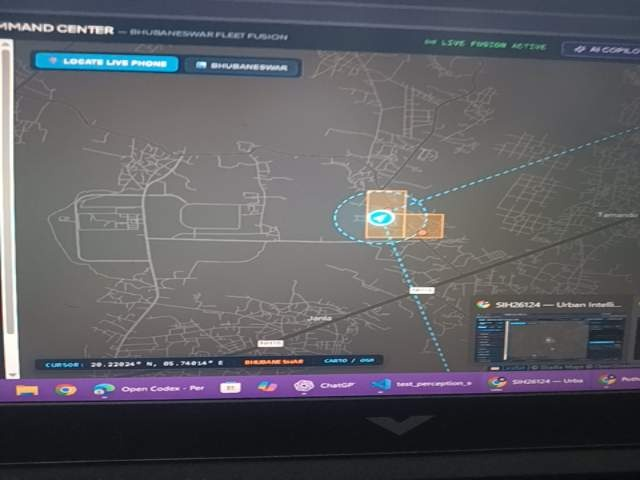pothole: (105, 404, 315, 480), (535, 404, 640, 480)
